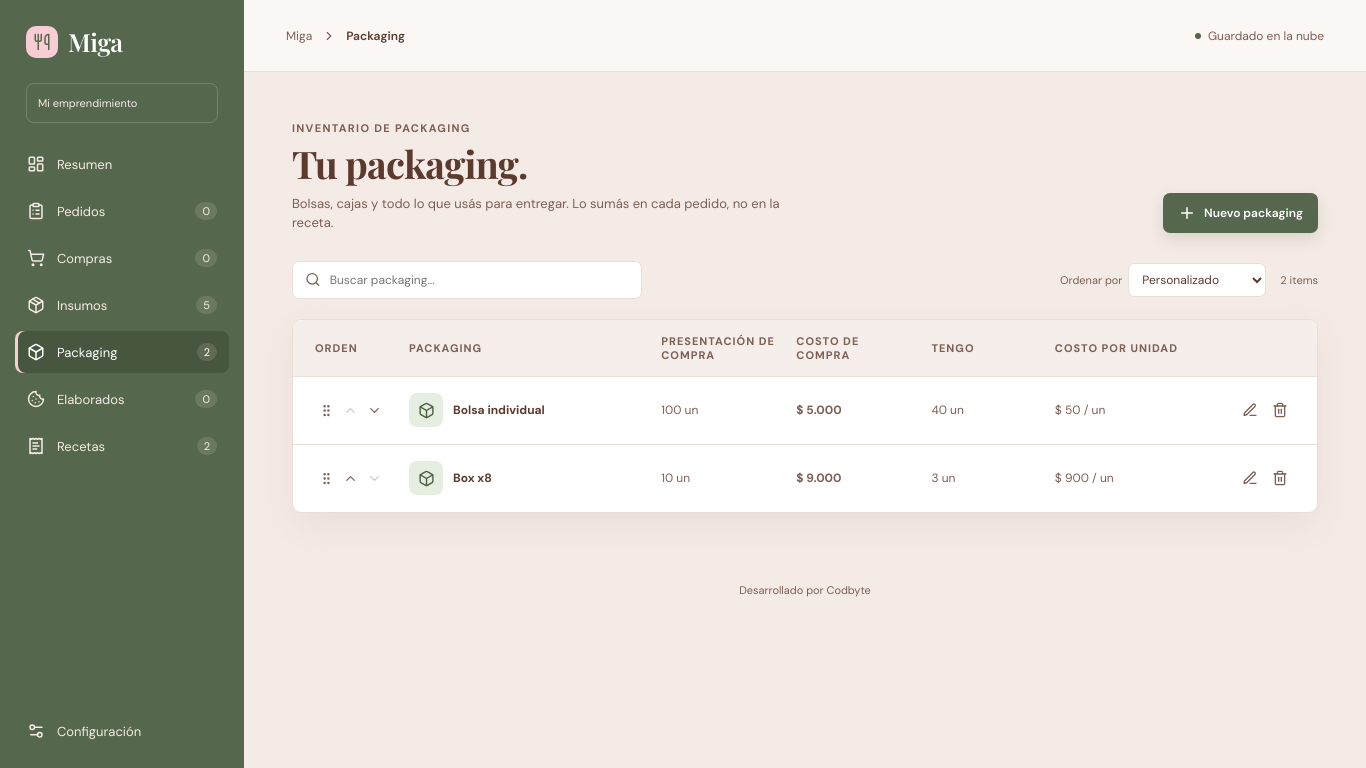
it: Packaging › searches by name and counts the matches
Expected: the text "2 items" is shown, [1280, 273, 1318, 287]
In the field labelled "Buscar packaging": (479, 280) [330, 262, 629, 298], type "box"
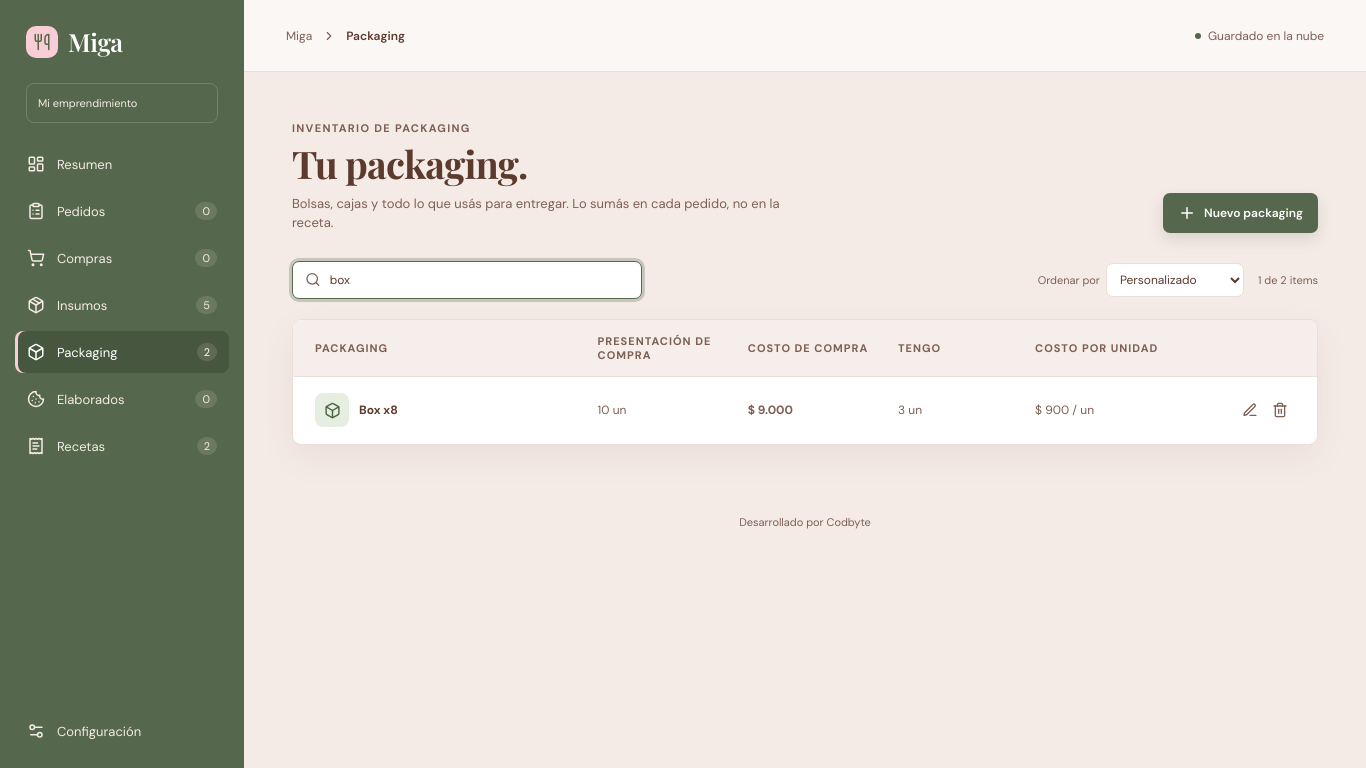
Expected: the text "Box x8" is shown, [359, 402, 398, 418]
Expected: the text "Bolsa individual" is gone
Expected: the text "1 de 2 items" is shown, [1258, 273, 1318, 287]
